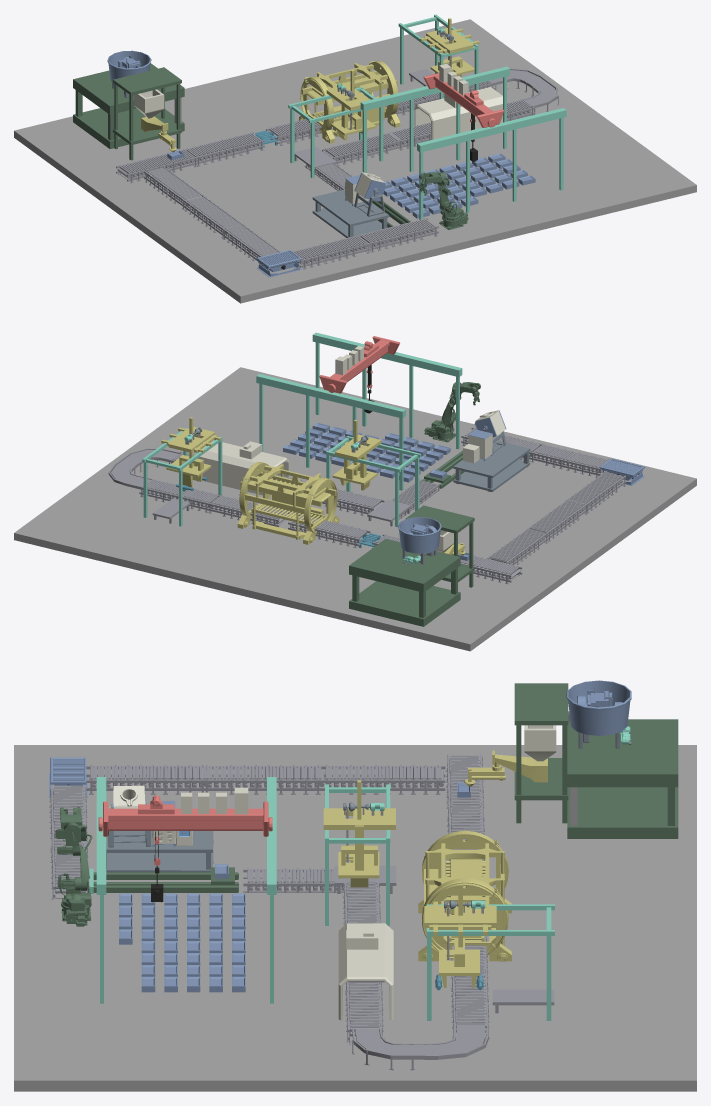
The picture shows the model from 3 angles, top to bottom: view 1: azimuth 30°, elevation 25°; view 2: azimuth 150°, elevation 25°; view 3: azimuth 270°, elevation 25°; orthographic projection. The views are drawn at different scales.
Visible parts, largest first — view 1: polySurface625; view 2: polySurface625; view 3: polySurface625.
Boxes of the visible parts, left/top/right/bottom form: polySurface625: left=14, top=14, right=696, bottom=303; polySurface625: left=14, top=332, right=696, bottom=651; polySurface625: left=14, top=680, right=696, bottom=1091.
Size of the model in its own units: 23.08 by 5.67 by 19.84.
